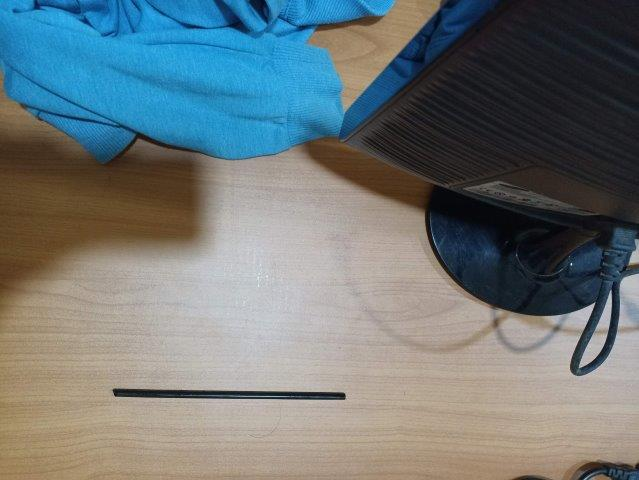sedotan: (113, 389, 346, 400)
